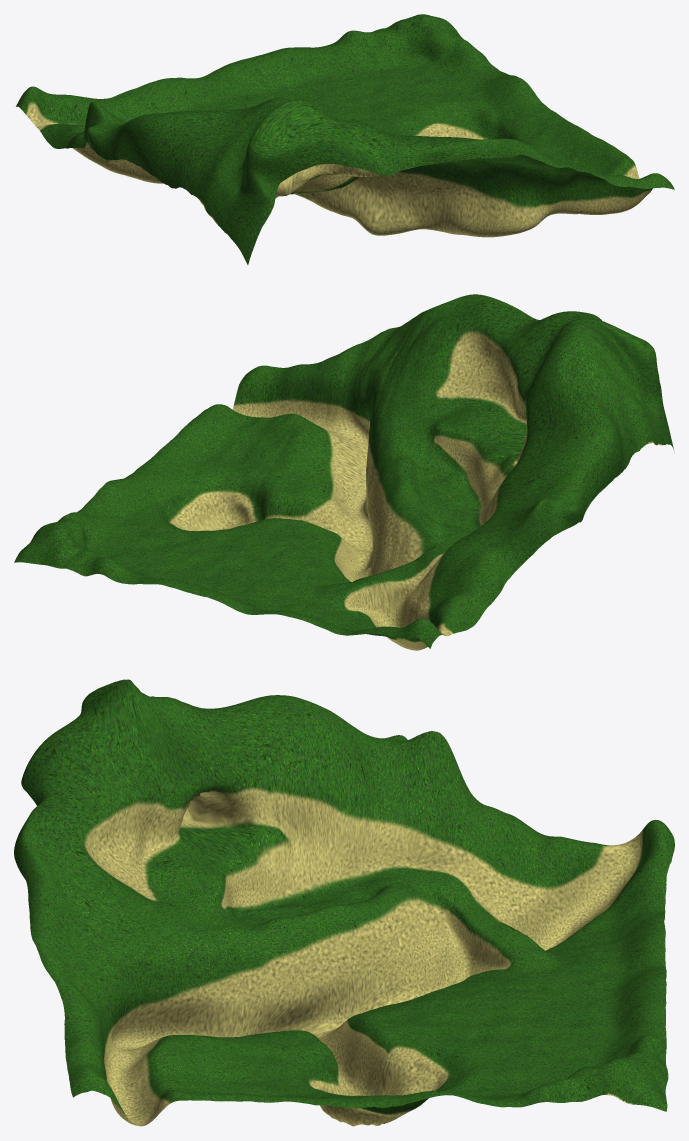
Rendered from terrain.glb.
3 views of the same model, one above another, from view 1: azimuth 30°, elevation 25°; view 2: azimuth 150°, elevation 25°; view 3: azimuth 270°, elevation 25° (orthographic). The views are drawn at different scales.
Parts seen in each view (by area): view 1: Plane; view 2: Plane; view 3: Plane.
Part boxes in pixels (box(x1,y1,x2,y2)): Plane: box(16, 14, 674, 264); Plane: box(14, 294, 674, 650); Plane: box(14, 679, 674, 1126).
Size of the model in its own units: 1100 by 517 by 1122.
1 material, 1 textured.
